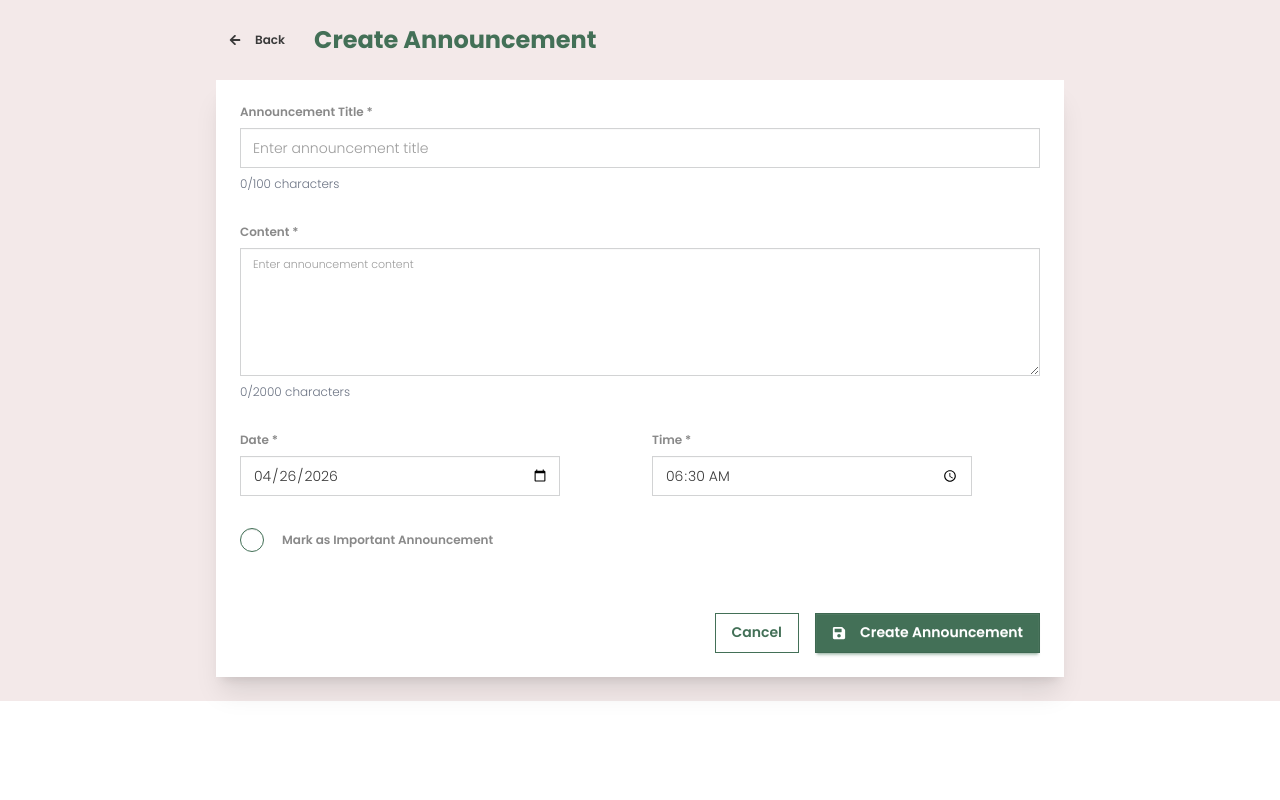
it: Create announcement page › shows validation errors and blocks submission for empty required fields
Check: the time field named "time" is shown, box [652,456,972,496]
Clear the date field named "date" at (400, 476), box [240,456,560,496]
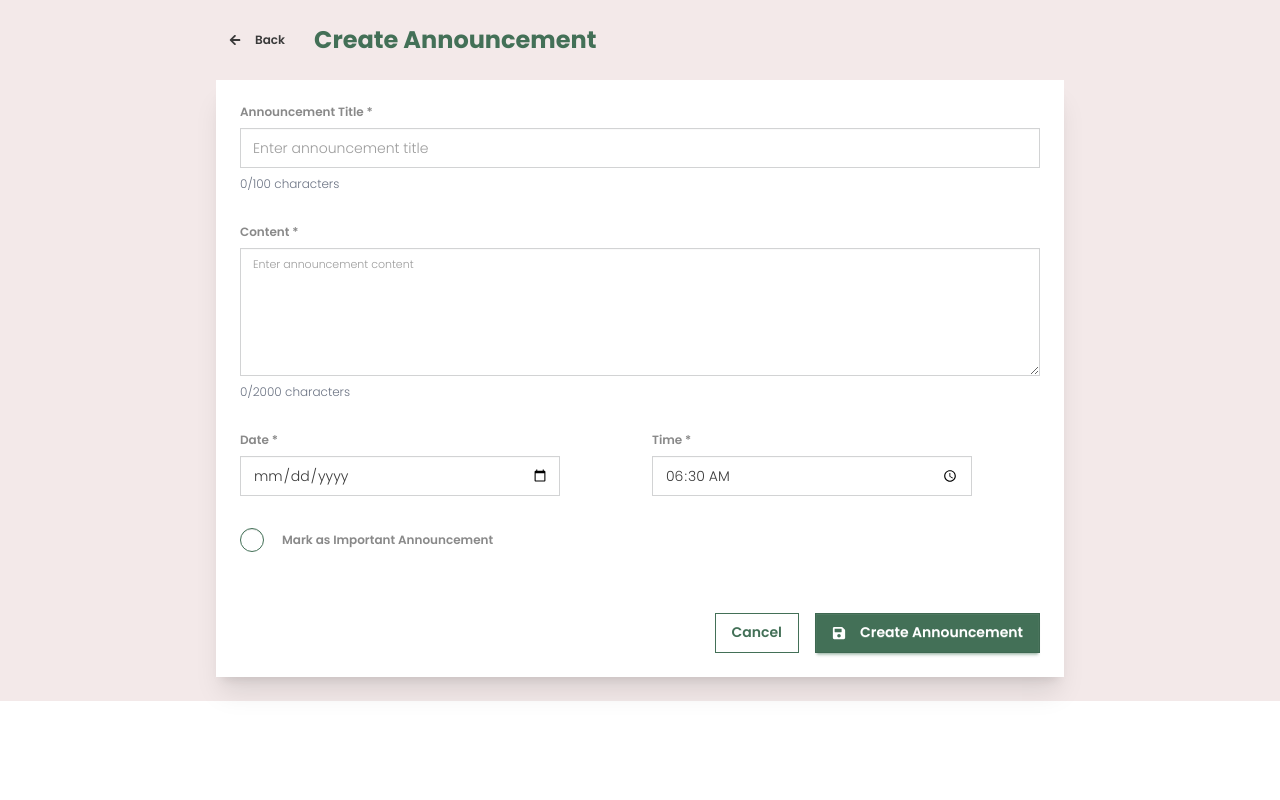
Clear the time field named "time" at (812, 476), box [652,456,972,496]
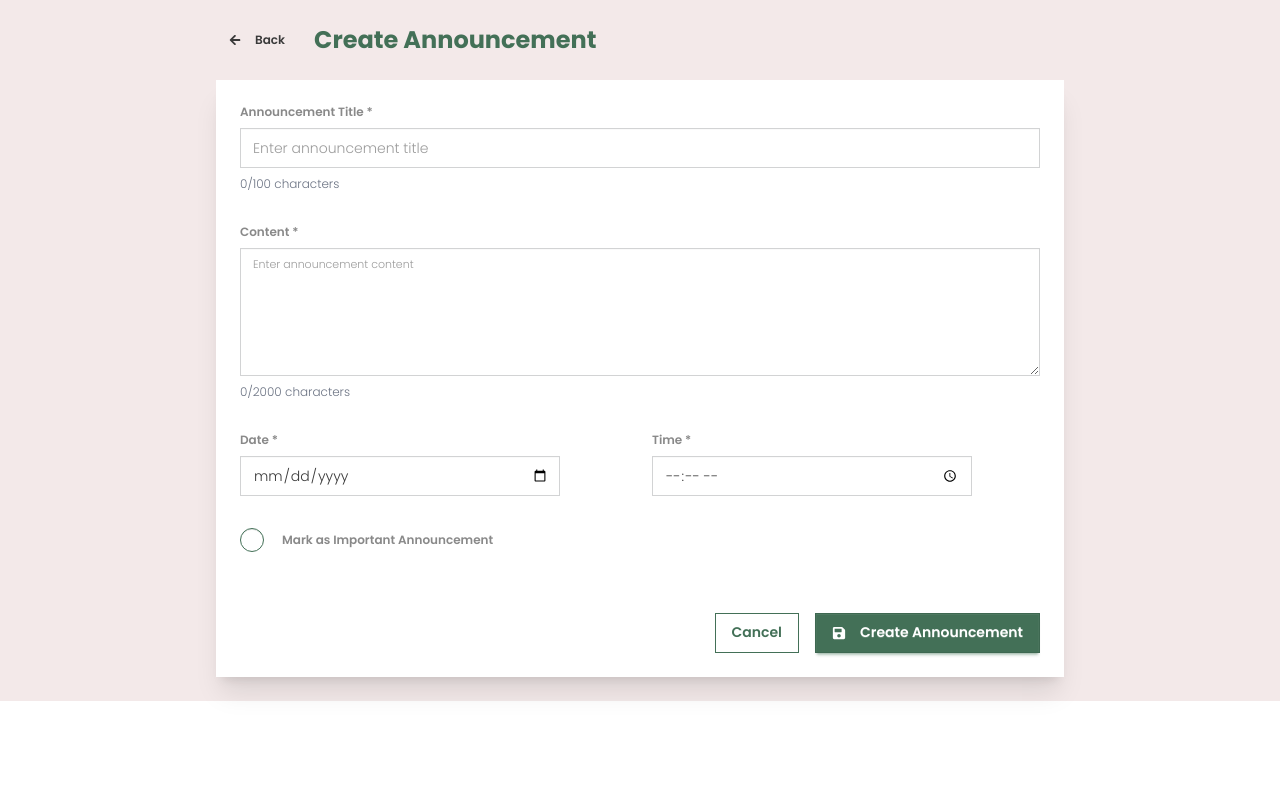
Click the button "Create Announcement".
click(928, 633)  # box [815,613,1040,653]
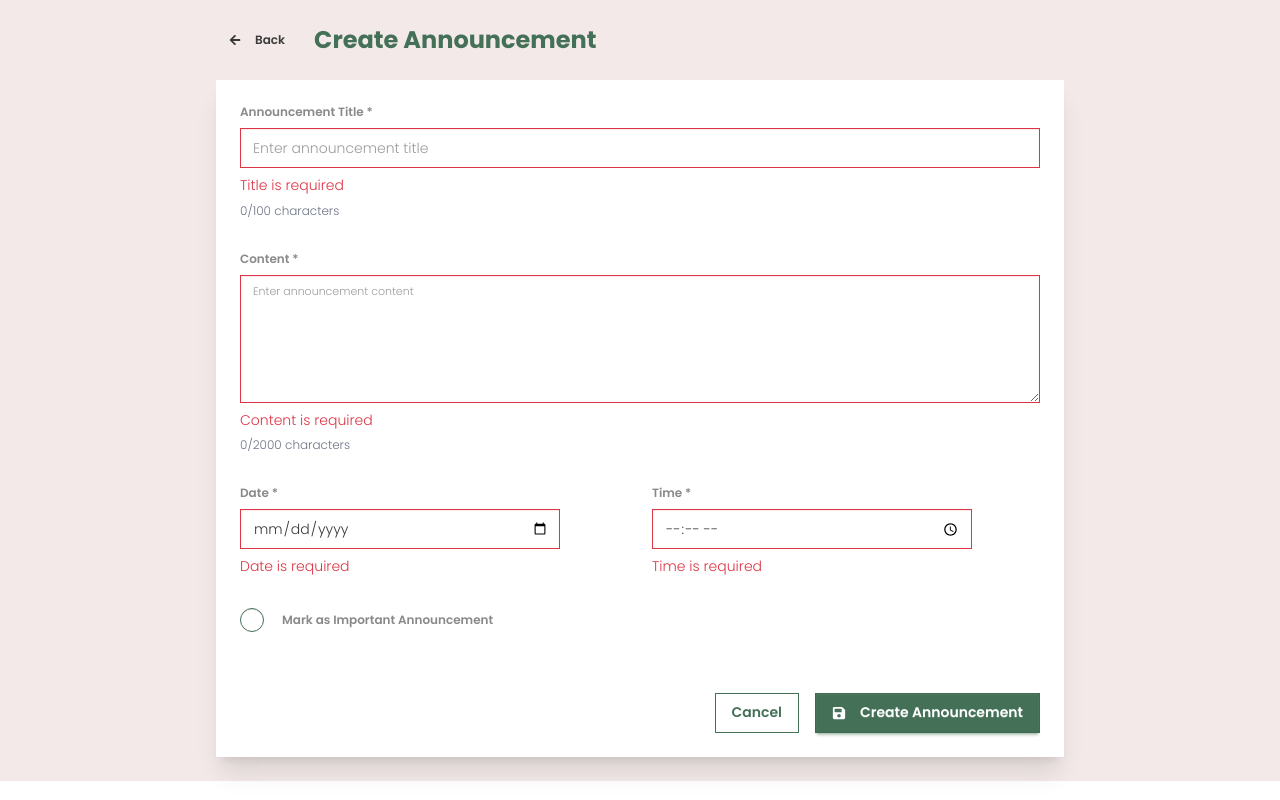
Check: the text "Title is required" is shown, box [240,175,344,195]
Check: the text "Content is required" is shown, box [240,410,373,430]
Check: the text "Date is required" is shown, box [240,556,350,576]
